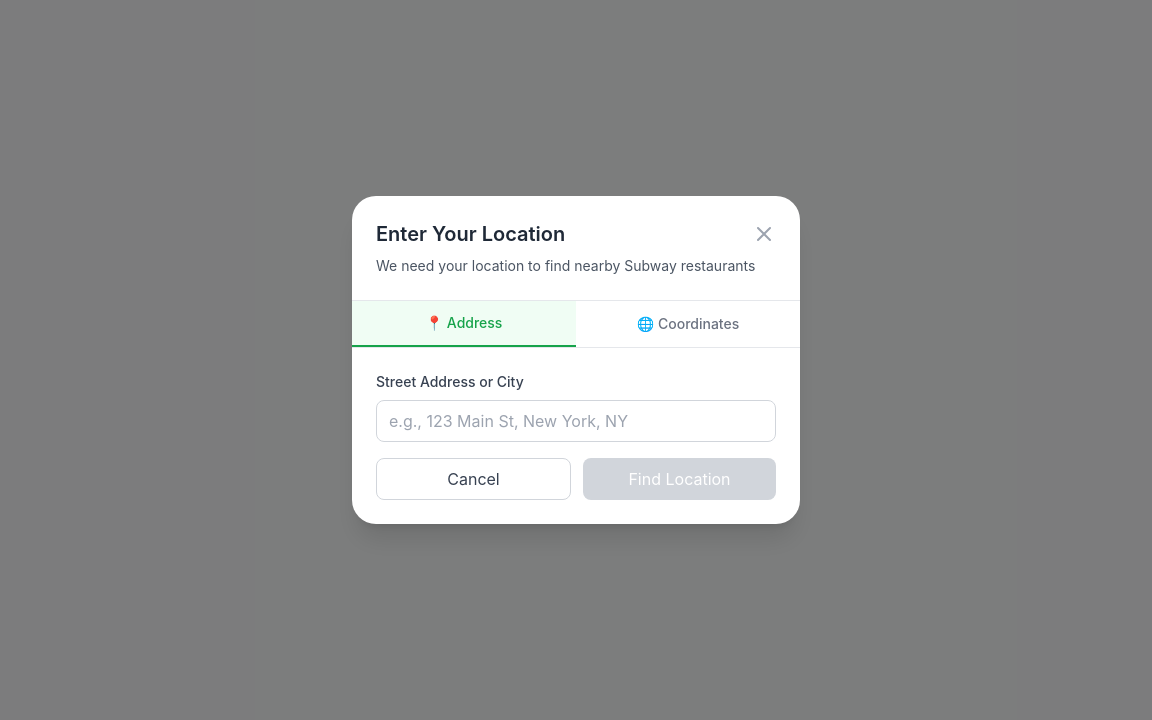
Test: ManualLocationEntry › switches between address and coordinates tabs
Expected: the field with placeholder "e.g., 123 Main St, New York, NY" is shown, [376, 400, 776, 442]
// Switch to coordinates tab
Click the button "🌐 Coordinates". click: (688, 324)
box: [576, 301, 800, 347]
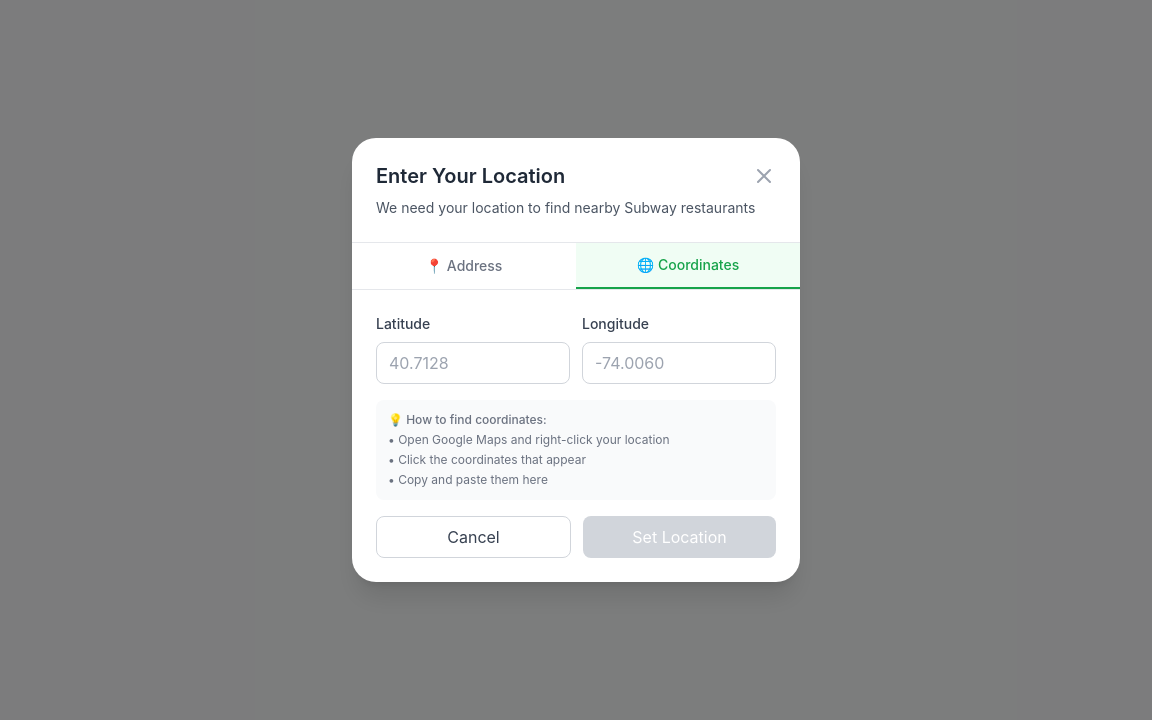
Expected: the number field with placeholder "40.7128" is shown, [376, 342, 570, 384]
Expected: the number field with placeholder "-74.0060" is shown, [582, 342, 776, 384]
// Switch back to address tab
Click the button "📍 Address". click: (464, 266)
box: [352, 243, 576, 289]
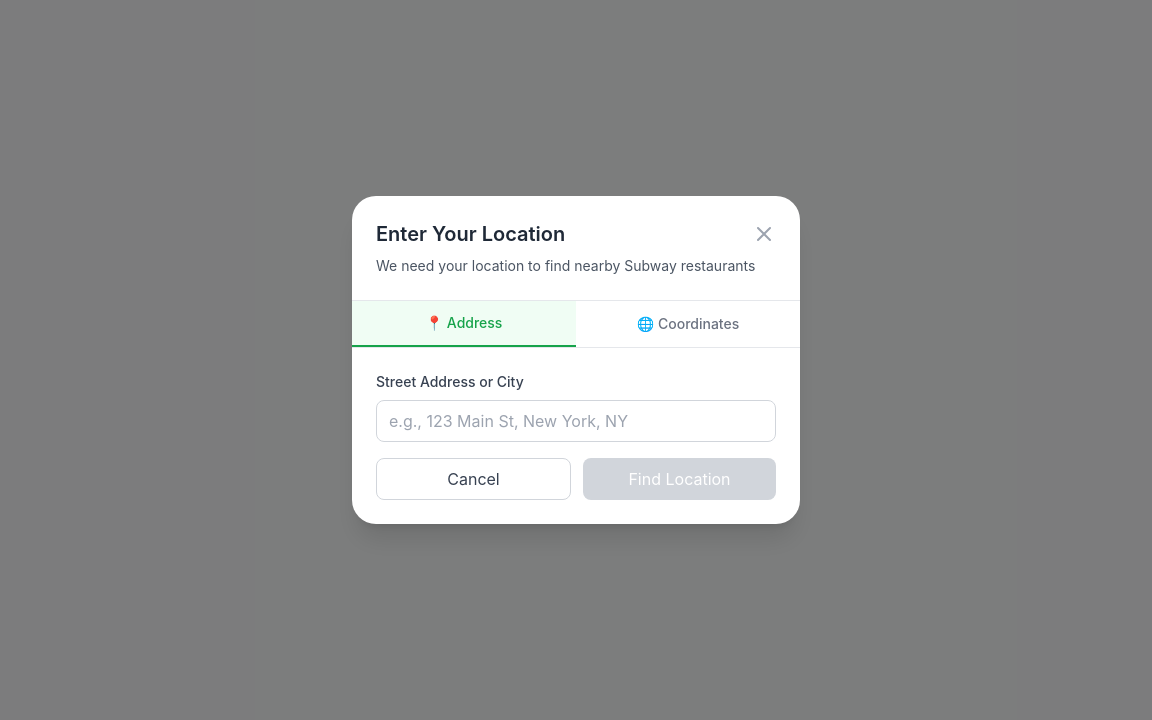
Expected: the field with placeholder "e.g., 123 Main St, New York, NY" is shown, [376, 400, 776, 442]
